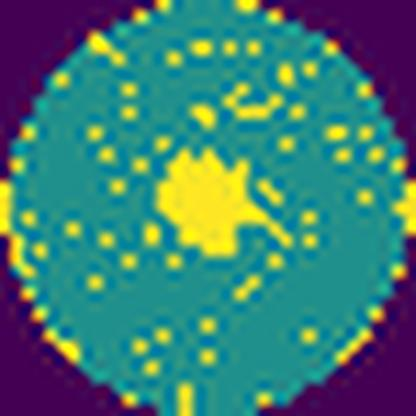Center: (154, 148, 299, 261)
